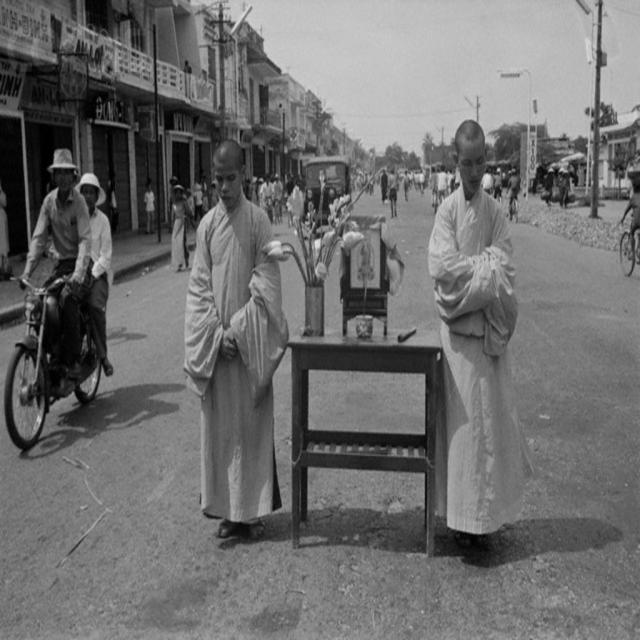Motorbikes: (3, 262, 122, 458)
